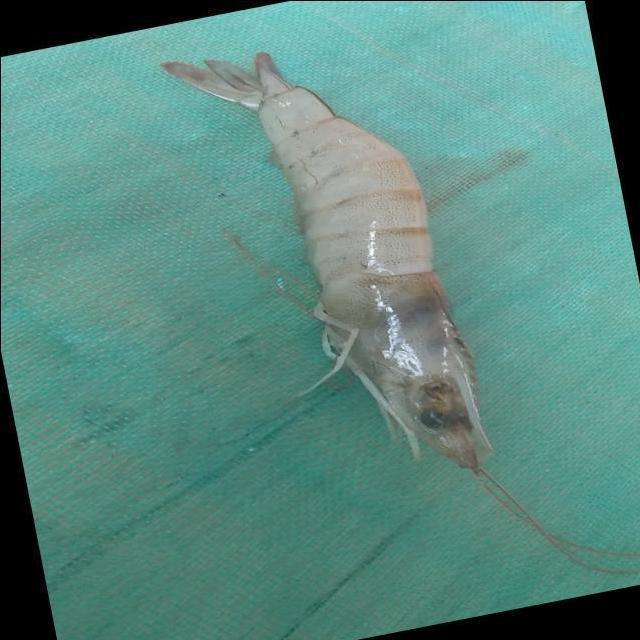shrimp: (159, 51, 490, 471)
